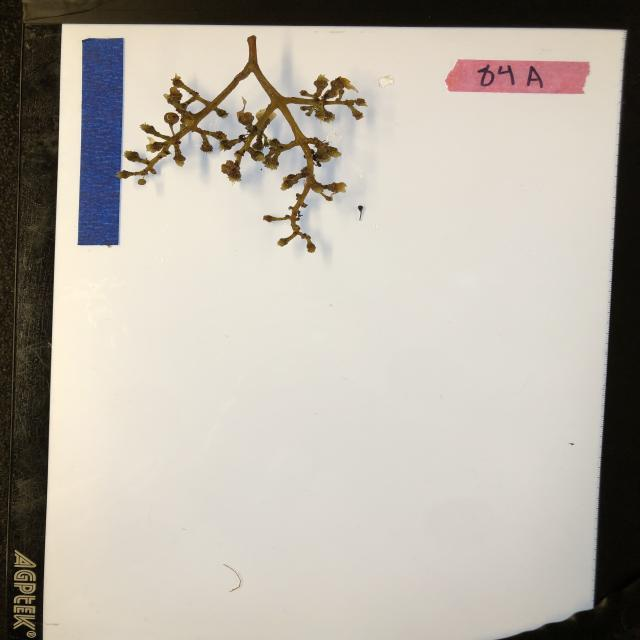index: (444, 58, 592, 94)
measure_label: (79, 35, 122, 247)
rachis_cluster: (114, 34, 368, 256)
